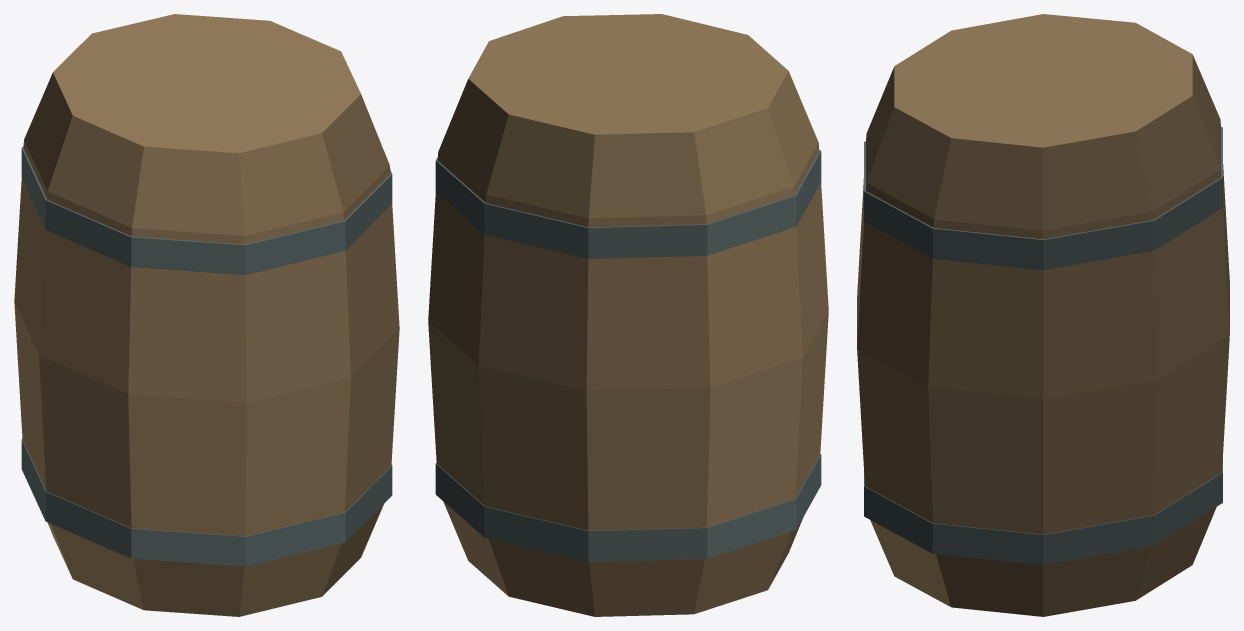
3 renders of one model, left to right at view 1: azimuth 30°, elevation 25°; view 2: azimuth 150°, elevation 25°; view 3: azimuth 270°, elevation 25°, orthographic. The views are drawn at different scales.
Parts seen in each view (by area): view 1: 223974fd4714b75d926dd6aec4473dee3c1885d05e5581dad0b366b20806; view 2: 223974fd4714b75d926dd6aec4473dee3c1885d05e5581dad0b366b20806; view 3: 223974fd4714b75d926dd6aec4473dee3c1885d05e5581dad0b366b20806.
Boxes of the visible parts, x1=… form: 223974fd4714b75d926dd6aec4473dee3c1885d05e5581dad0b366b20806: x1=14, y1=14, x2=399, y2=616; 223974fd4714b75d926dd6aec4473dee3c1885d05e5581dad0b366b20806: x1=428, y1=14, x2=828, y2=616; 223974fd4714b75d926dd6aec4473dee3c1885d05e5581dad0b366b20806: x1=857, y1=14, x2=1229, y2=616.
Bounding box in the file's own units: 0.53 × 0.718 × 0.5041.
1 material, 1 textured.
